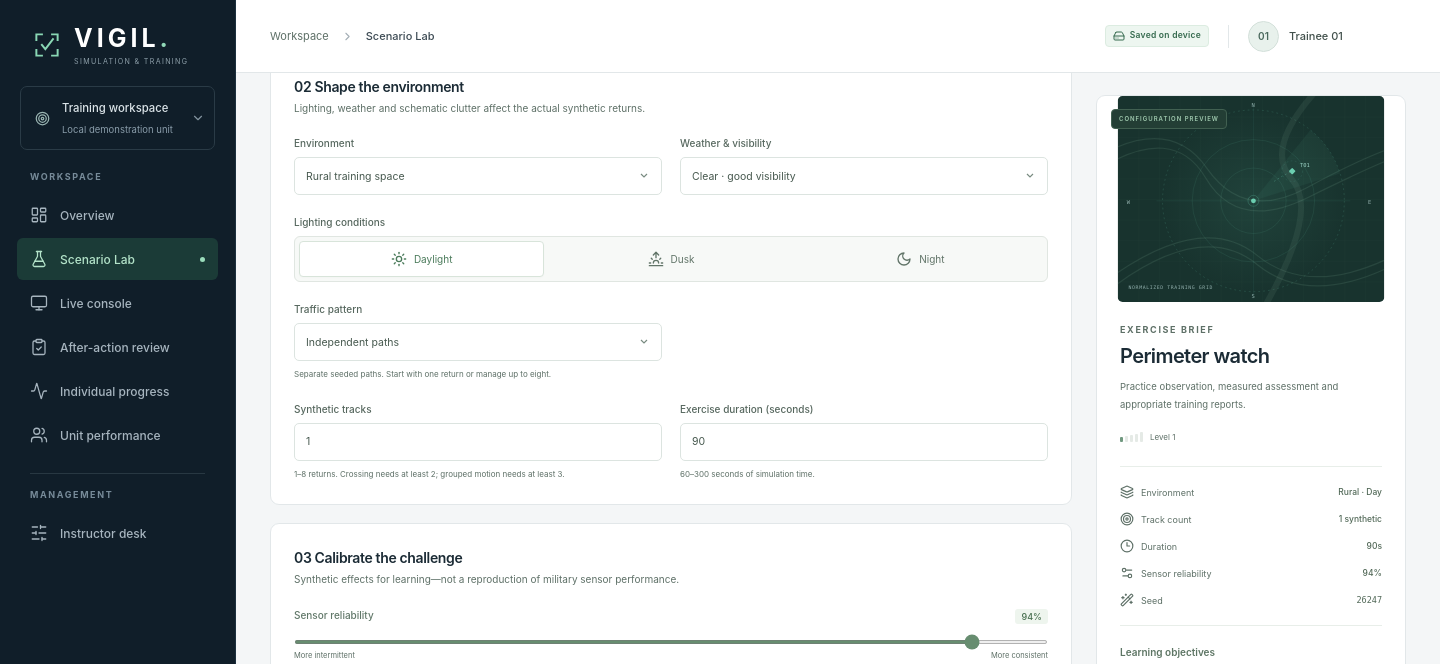
Test: Phase 1 navigation and foundation › rejects invalid configuration without leaving the lab
(page scrolled)
Clear the number field labelled "Exercise duration (seconds)" at (864, 442), box [680,423,1048,461]
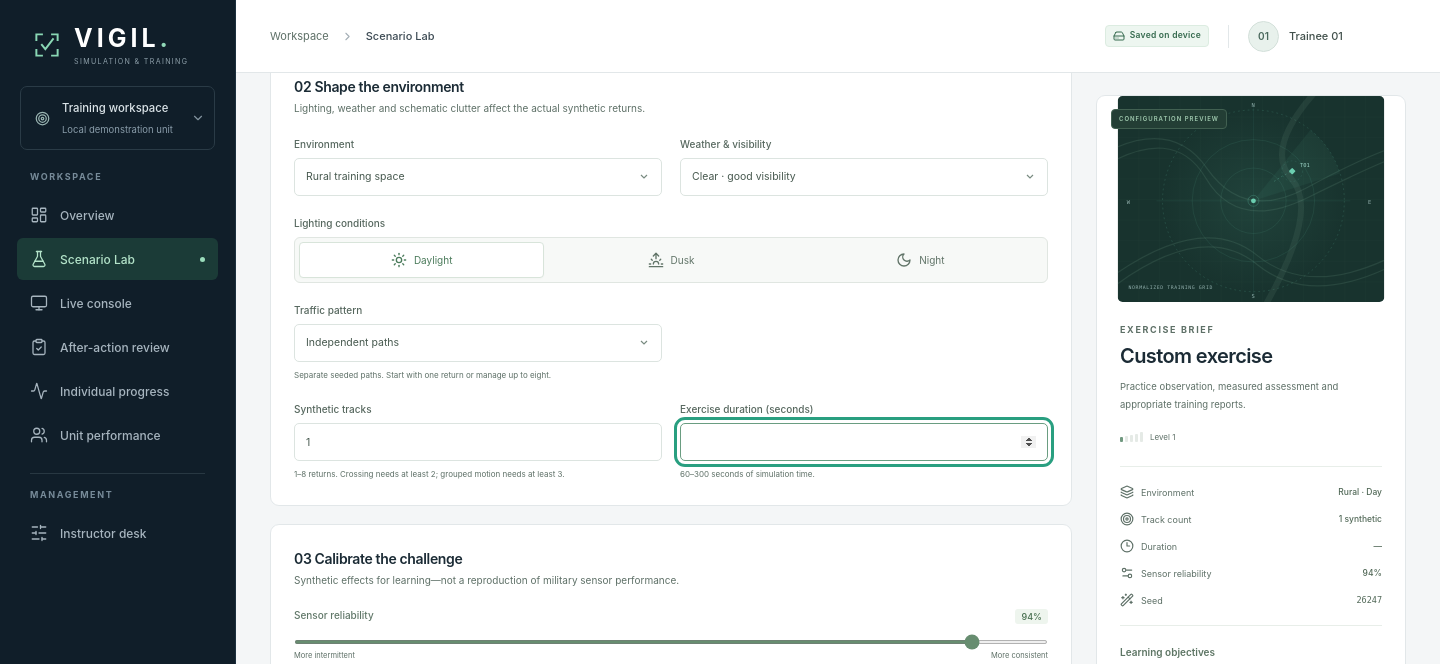
Type "10" into the number field labelled "Exercise duration (seconds)" at (864, 442), box [680,423,1048,461]
(page scrolled)
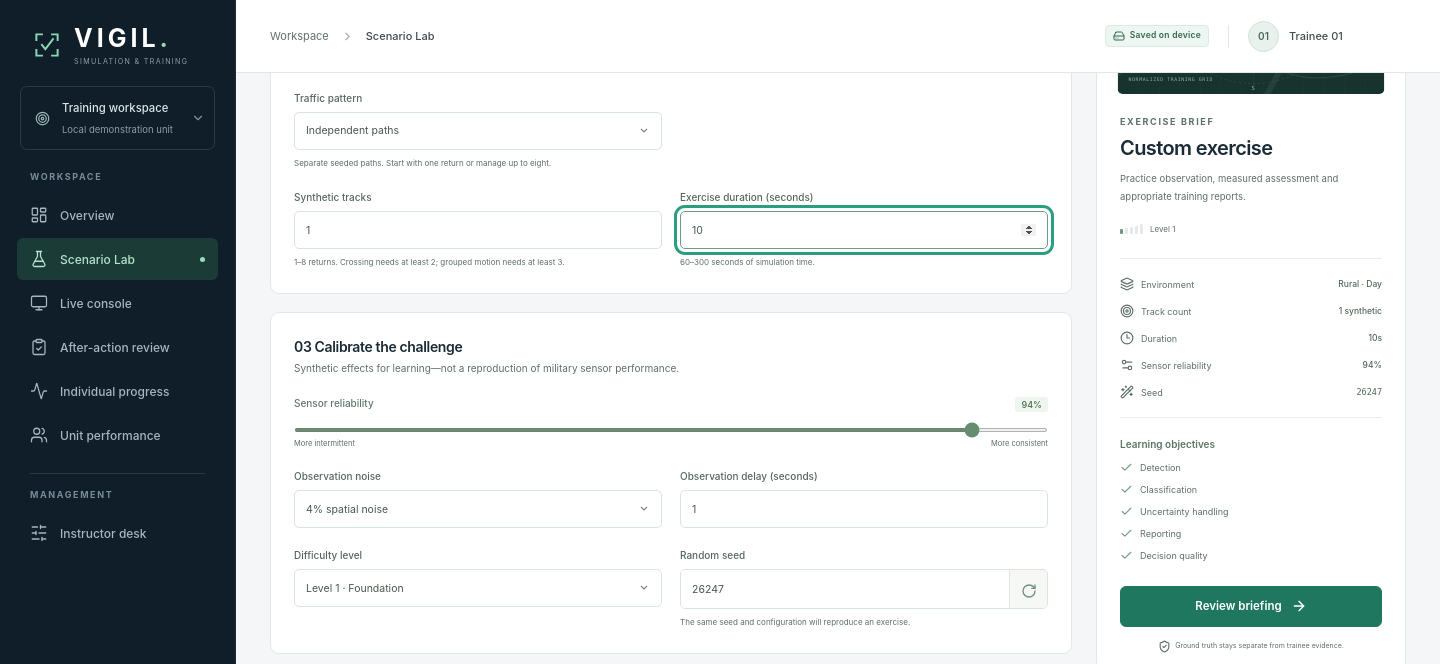
Click the button "Review briefing" at (1251, 606), box [1120,586,1382,627]
(page scrolled)
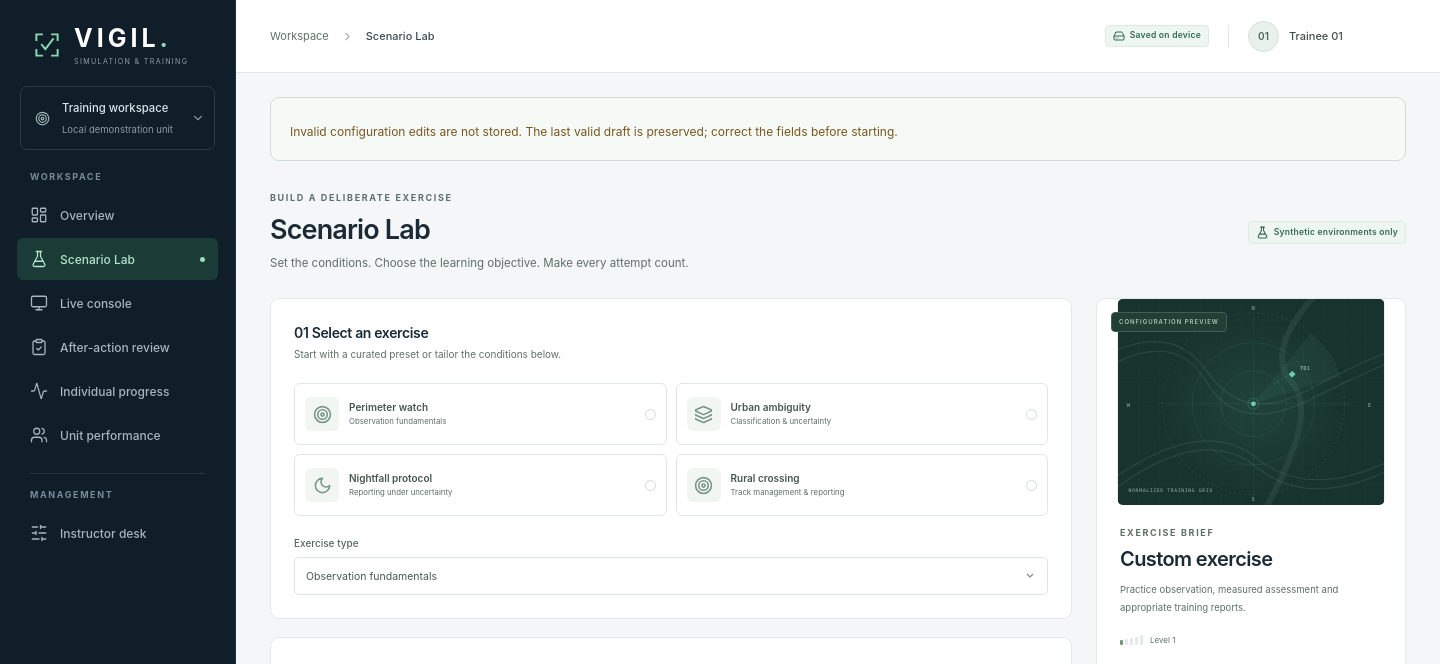
Now the heading "Scenario Lab" is shown, box [270,213,430,246]
